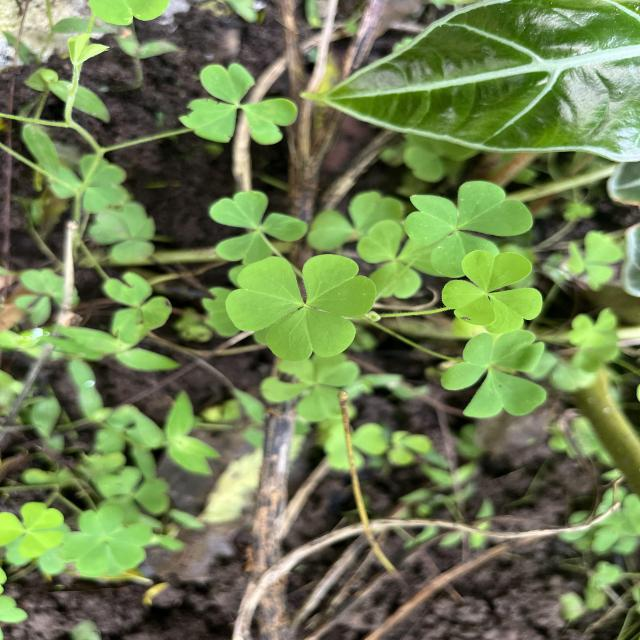Oxalis corniculata: (224, 252, 380, 366), (400, 179, 534, 278), (177, 62, 299, 146), (440, 328, 550, 421), (438, 248, 546, 335), (207, 190, 309, 264)
